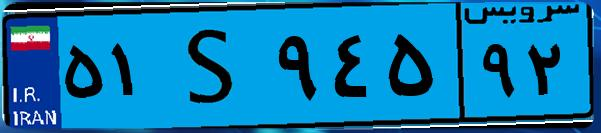1: (110, 28, 158, 98)
2: (525, 38, 570, 115)
4: (330, 28, 385, 110)
5: (385, 28, 445, 110), (57, 26, 110, 100)
9: (270, 28, 330, 110), (475, 38, 525, 113)
S: (158, 12, 270, 120)
